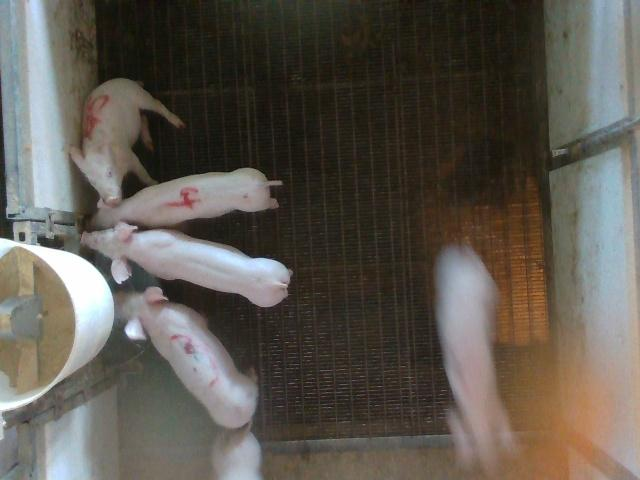pig-2: (435, 245, 515, 476)
pig-3: (115, 286, 258, 428)
pig-4: (91, 168, 280, 229)
pig-5: (69, 79, 184, 205)
